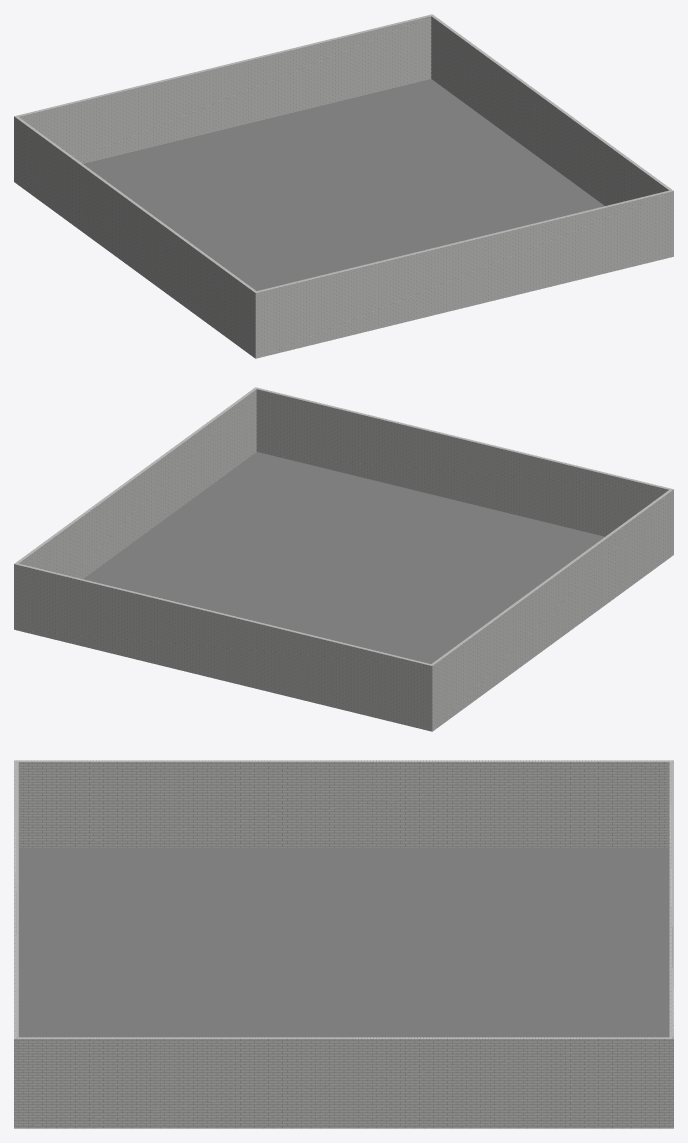
File: Roof.obj
The picture shows the model from 3 angles, top to bottom: view 1: azimuth 30°, elevation 25°; view 2: azimuth 150°, elevation 25°; view 3: azimuth 270°, elevation 25°; orthographic projection. The views are drawn at different scales.
Parts seen in each view (by area): view 1: Roof; view 2: Roof; view 3: Roof.
Part boxes in pixels (box(x1,y1,x2,y2)): Roof: box(14, 14, 673, 358); Roof: box(14, 387, 673, 731); Roof: box(14, 760, 673, 1128).
Size of the model in its own units: 20 by 3 by 20.
